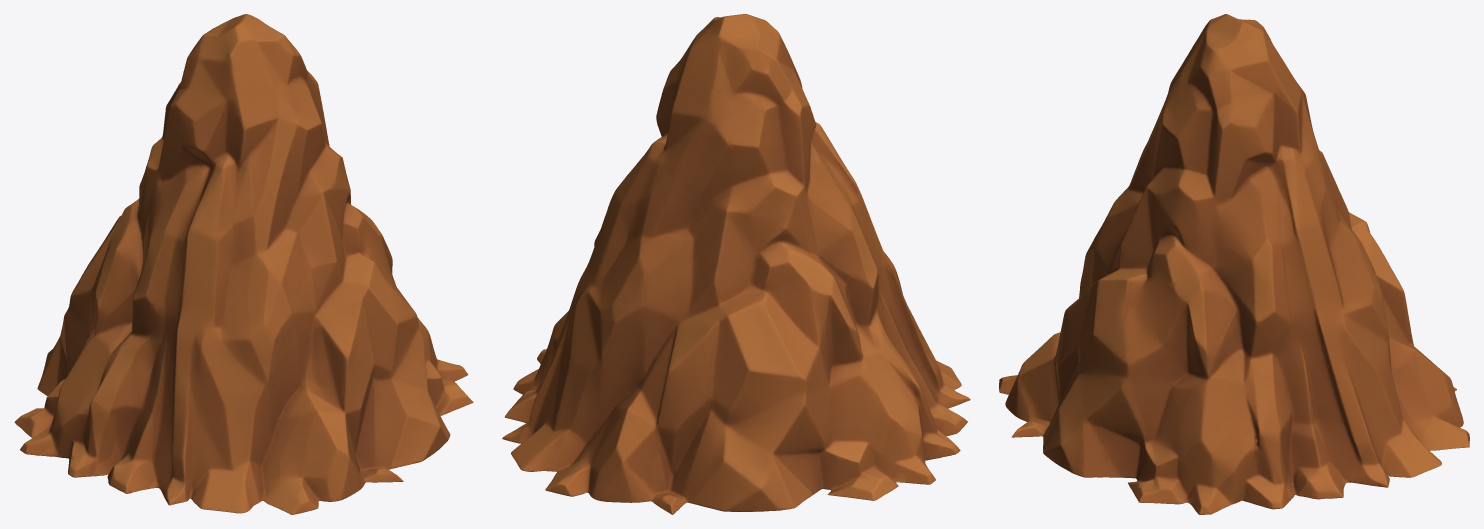
File: cerrado_cunpizeiro.glb
3 views of the same model, side by side, from view 1: azimuth 30°, elevation 25°; view 2: azimuth 150°, elevation 25°; view 3: azimuth 270°, elevation 25° (orthographic). The views are drawn at different scales.
Size of the model in its own units: 1.7 by 1.55 by 1.67.
1 material, 1 textured.
